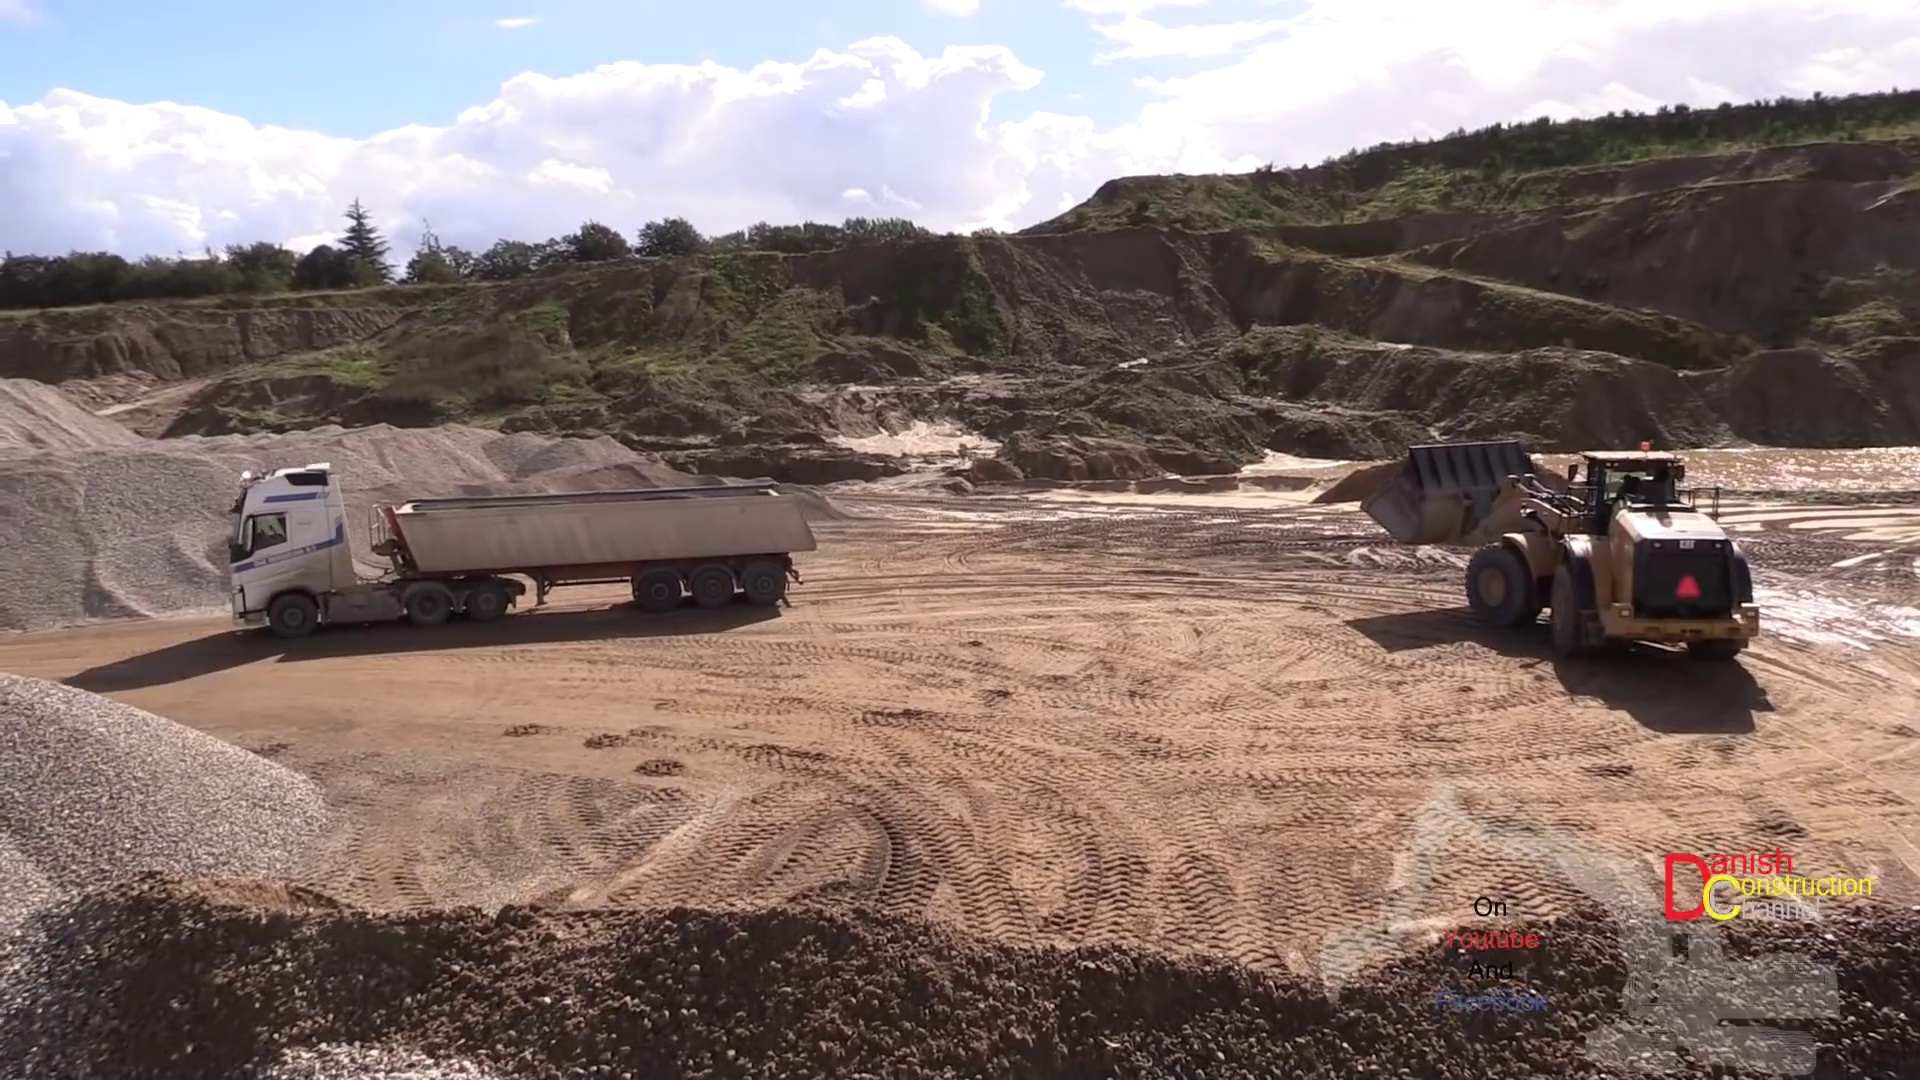truck: (225, 463, 820, 632)
wheel loader: (1357, 435, 1764, 667)
